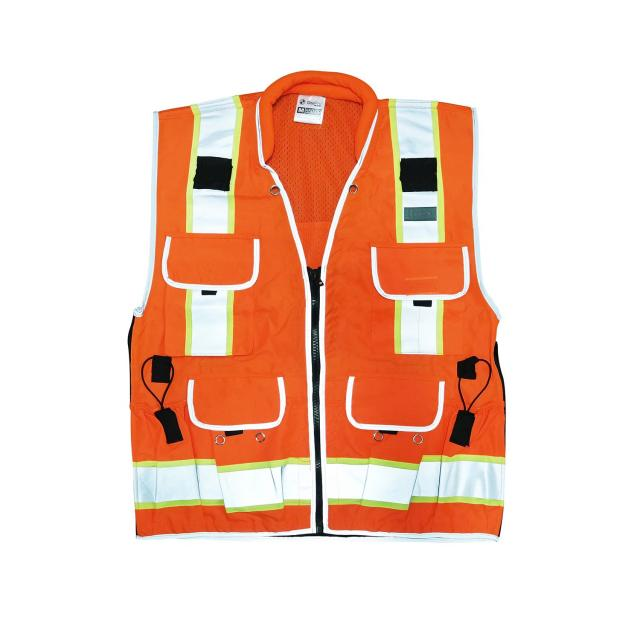Reflective-Jacket: (88, 63, 529, 554)
